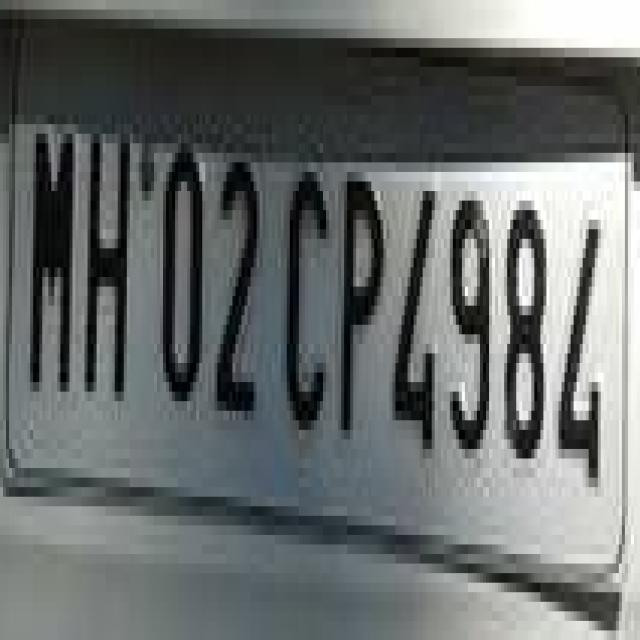license_plate: (15, 9, 598, 564)
